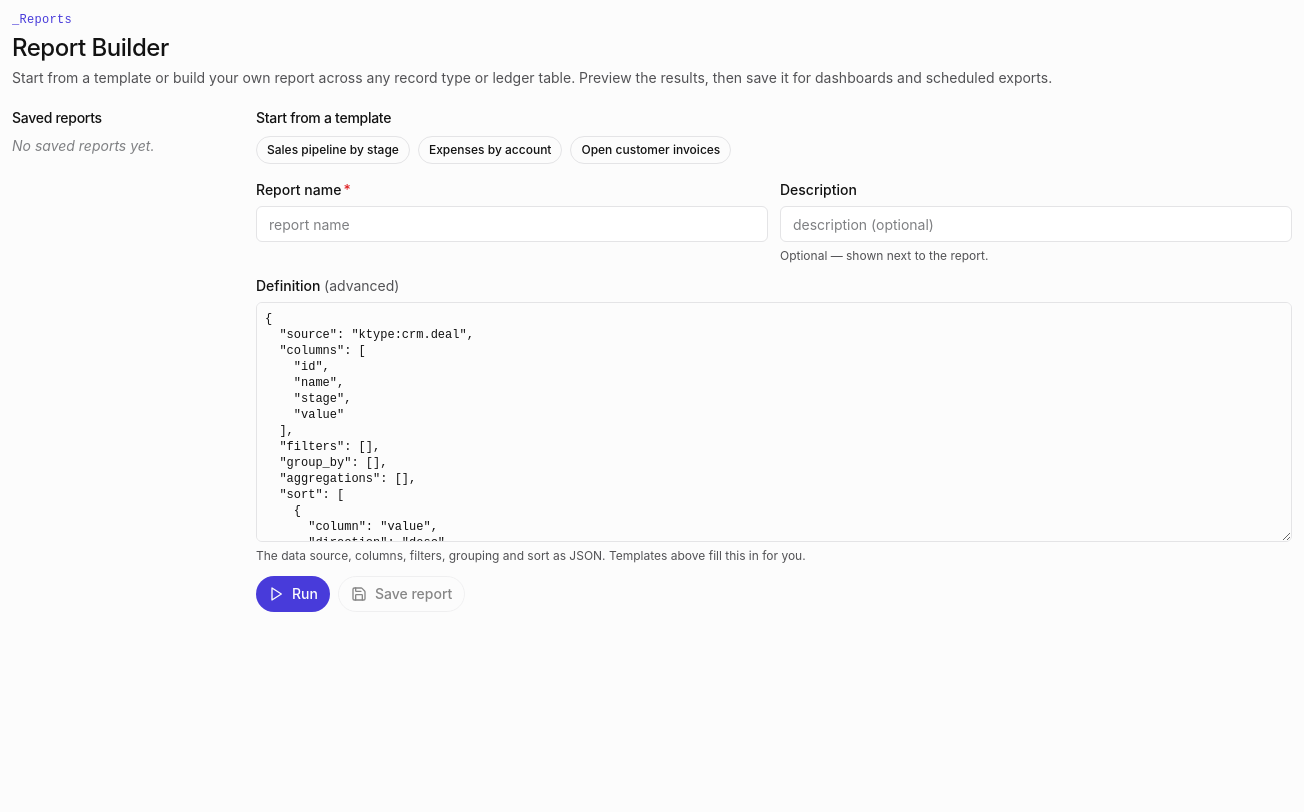
it: ReportBuilderPage › runs the report and renders the result grid
Click the button "Run" at {"x": 293, "y": 594}, box x1=256 y1=576 x2=330 y2=612
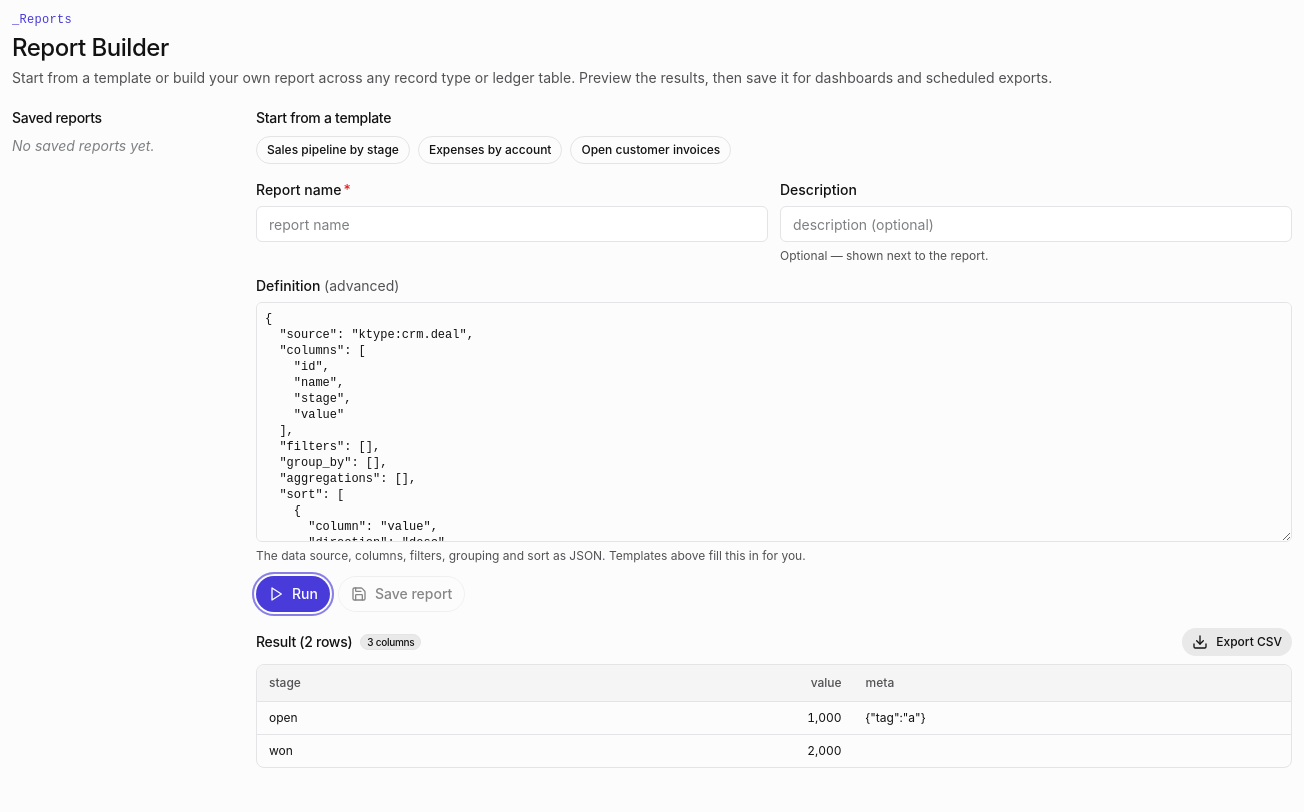
Expected: the heading "Result (2 rows) 3 columns" is shown, x1=256 y1=632 x2=421 y2=652
Expected: the text "{\"tag\":\"a\"}" is shown, x1=854 y1=701 x2=1291 y2=734
